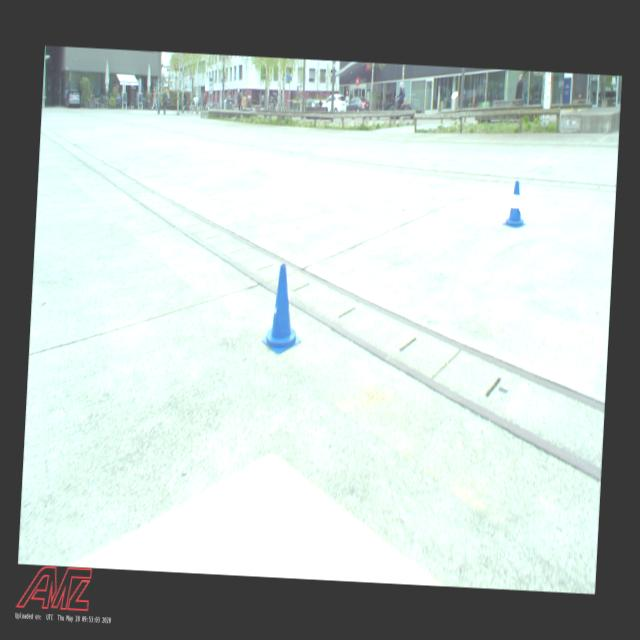blue_cone: (262, 262, 306, 354), (503, 180, 529, 229)
